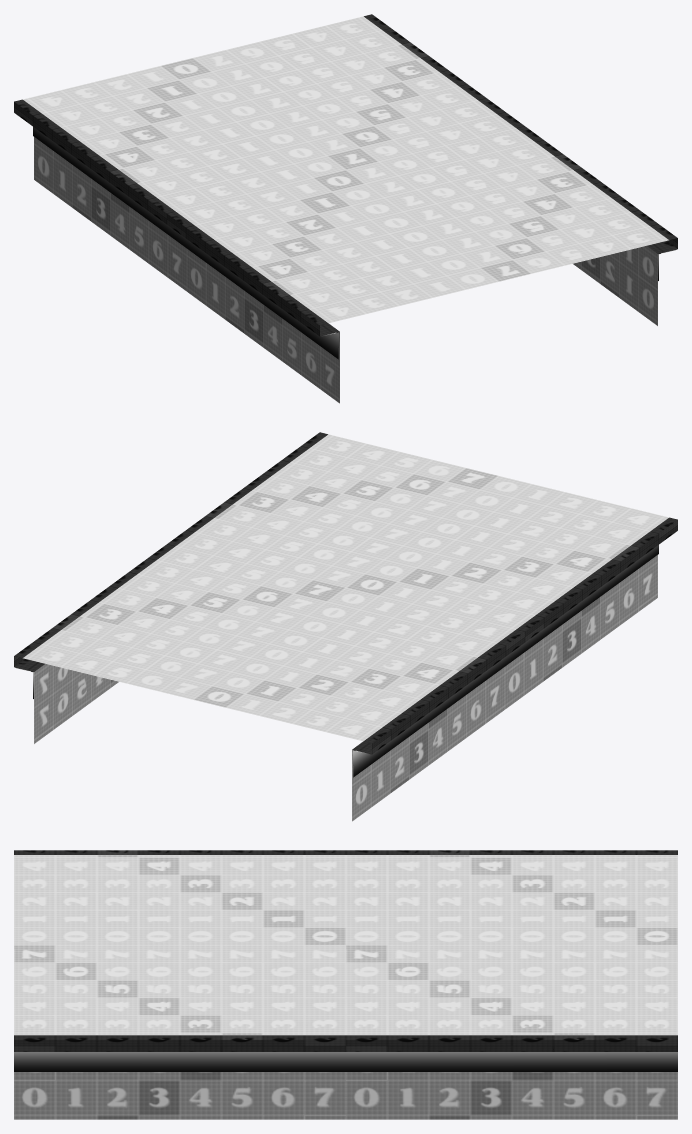
File: Podium02_4.FBX
3 views of the same model, one above another, from view 1: azimuth 30°, elevation 25°; view 2: azimuth 150°, elevation 25°; view 3: azimuth 270°, elevation 25° (orthographic). The views are drawn at different scales.
Visible parts, largest first — view 1: Podium, Backlight; view 2: Podium, Backlight; view 3: Podium, Backlight.
Boxes of the visible parts, <box> form: Podium: <box>14,14,677,403</box>; Backlight: <box>33,127,675,359</box>; Podium: <box>14,432,677,821</box>; Backlight: <box>16,545,658,777</box>; Podium: <box>14,850,677,1119</box>; Backlight: <box>14,1052,677,1071</box>.
Size of the model in its own units: 338 by 75 by 500.
